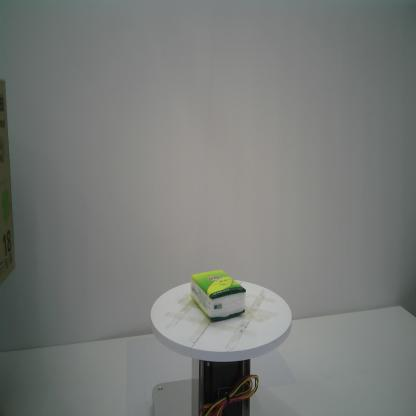Tissue: (190, 269, 246, 322)
